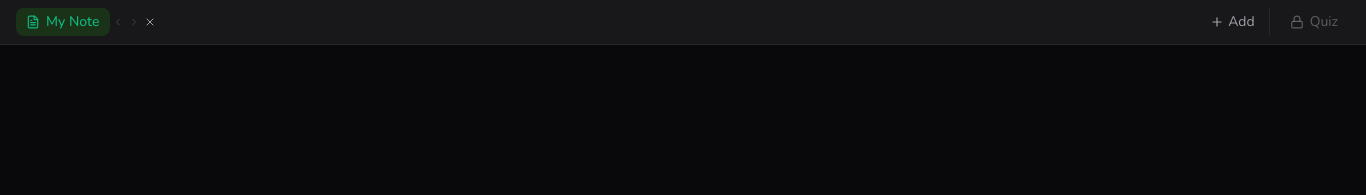
Test: LearningResourceNav › Add resource menu › opens dropdown menu when Add button is clicked
Click the button "Add" at (1232, 22), box [1200, 8, 1265, 36]
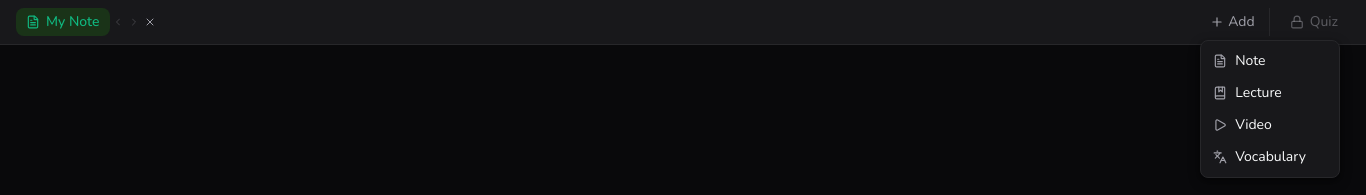
Expected: the button "Note" is shown, [1201, 45, 1339, 77]
Expected: the button "Lecture" is shown, [1201, 77, 1339, 109]
Expected: the button "Video" is shown, [1201, 109, 1339, 141]
